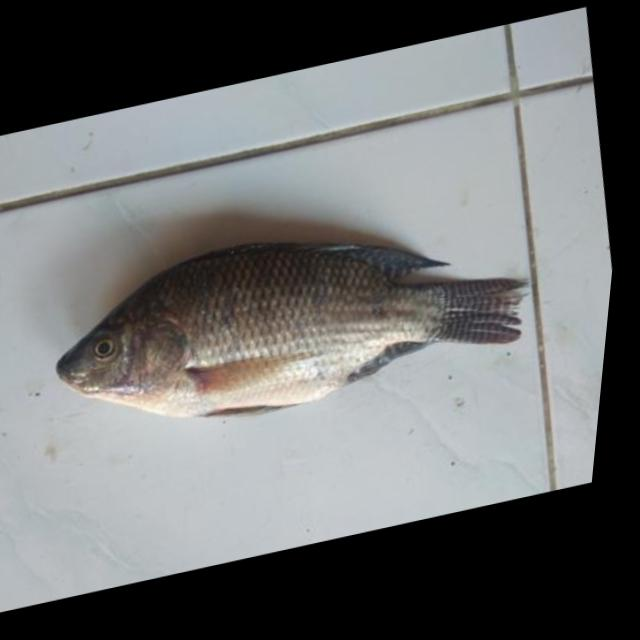Tilapia: (32, 180, 553, 460)
